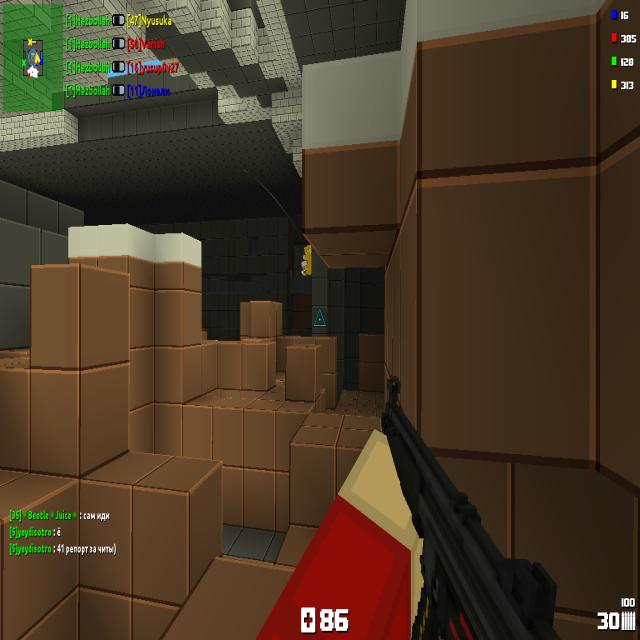enemy: (303, 244, 312, 275), (301, 260, 308, 276)
